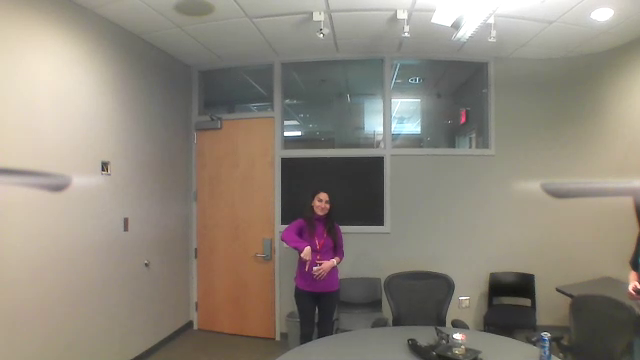down: (296, 243, 313, 274)
